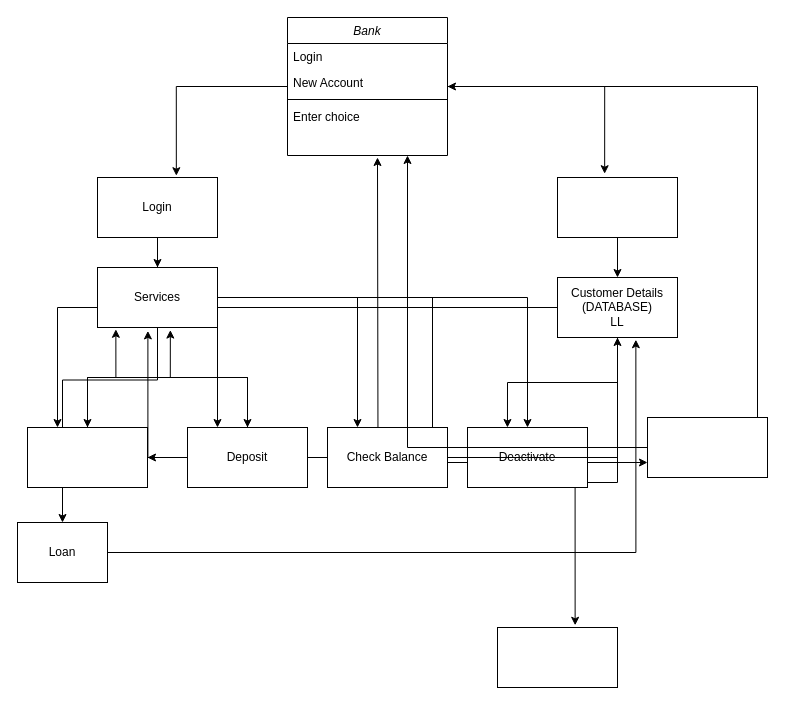
The diagram is 785 pixels wide and 705 high, and some of its shapes have lost their labels. The centre of each missing label's shape, as x and y in pixels:
Address: point 557,657
Log out: point 707,447
New User: point 617,207
Withdraw: point 87,457
